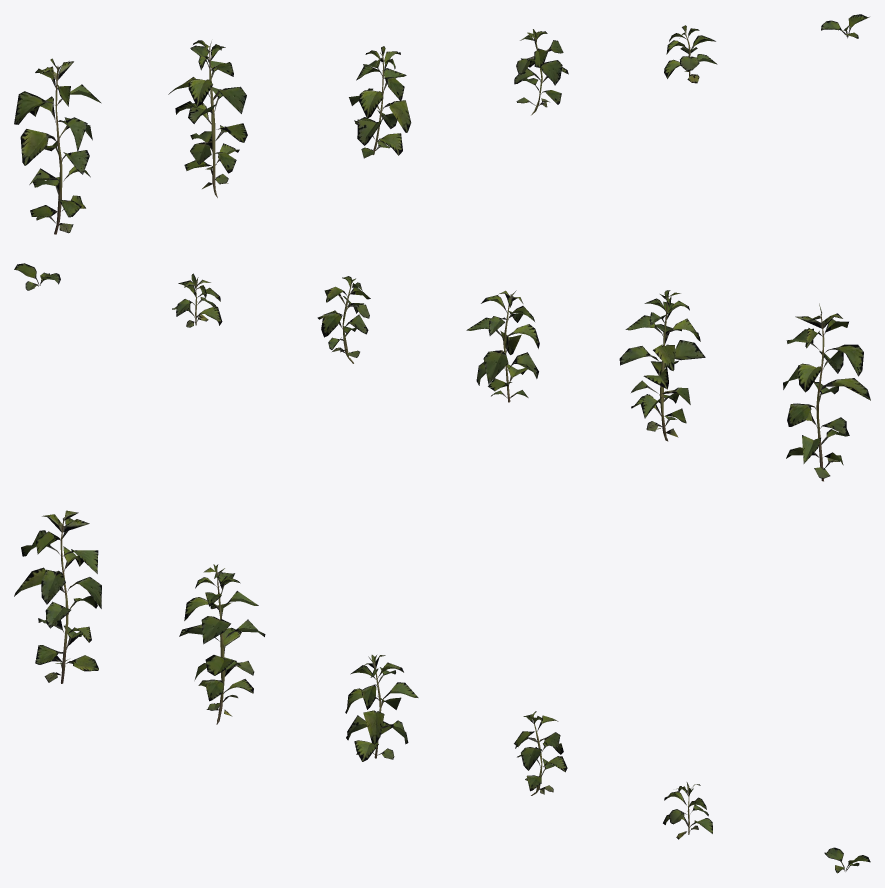
The model's file is nettle_lo.glb.
3 renders of one model, top to bottom at view 1: azimuth 30°, elevation 25°; view 2: azimuth 150°, elevation 25°; view 3: azimuth 330°, elevation 25°, orthographic.
Visible parts, largest first — view 1: nettle_plant_tall_a_LOD0, nettle_plant_tall_b_LOD0, nettle_plant_medium_a_LOD0, nettle_plant_medium_b_LOD0, nettle_plant_small_a_LOD0; view 2: nettle_plant_tall_a_LOD0, nettle_plant_tall_b_LOD0, nettle_plant_medium_a_LOD0, nettle_plant_medium_b_LOD0, nettle_plant_small_a_LOD0, nettle_plant_small_b_LOD0; view 3: nettle_plant_tall_a_LOD0, nettle_plant_tall_b_LOD0, nettle_plant_medium_a_LOD0, nettle_plant_medium_b_LOD0, nettle_plant_small_a_LOD0.
Boxes of the visible parts, x1,y1,x2,y2 form: nettle_plant_tall_a_LOD0: (14,58,101,234); nettle_plant_tall_b_LOD0: (168,40,247,197); nettle_plant_medium_a_LOD0: (349,46,411,158); nettle_plant_medium_b_LOD0: (514,29,568,115); nettle_plant_small_a_LOD0: (664,25,717,83); nettle_plant_tall_a_LOD0: (783,303,870,481); nettle_plant_tall_b_LOD0: (619,290,705,441); nettle_plant_medium_a_LOD0: (466,290,539,402); nettle_plant_medium_b_LOD0: (317,276,370,363); nettle_plant_small_a_LOD0: (172,273,222,327); nettle_plant_small_b_LOD0: (14,263,60,290); nettle_plant_tall_a_LOD0: (14,510,101,683); nettle_plant_tall_b_LOD0: (179,564,265,724); nettle_plant_medium_a_LOD0: (345,655,418,761); nettle_plant_medium_b_LOD0: (514,711,567,795); nettle_plant_small_a_LOD0: (663,782,712,839).
Size of the model in its own units: 1.08 by 0.2135 by 0.0947.
Materials: 1 (1 with a texture image).
